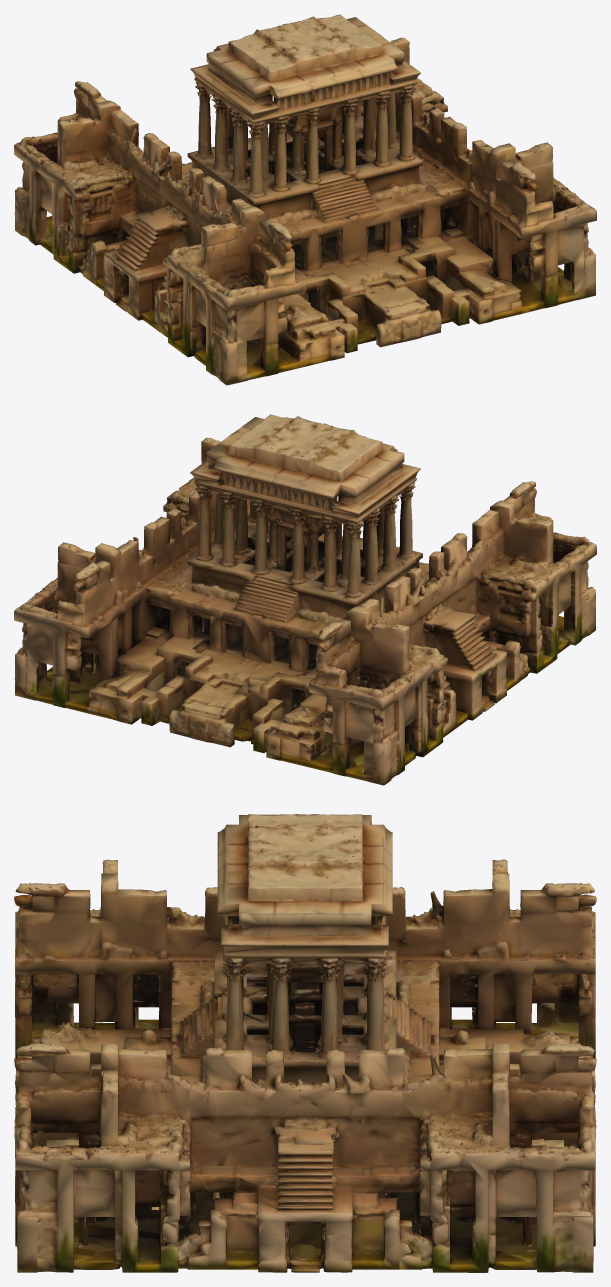
The model's file is A_very_large_ancient.glb.
The picture shows the model from 3 angles, top to bottom: view 1: azimuth 30°, elevation 25°; view 2: azimuth 150°, elevation 25°; view 3: azimuth 270°, elevation 25°; orthographic projection. The views are drawn at different scales.
Visible parts, largest first — view 1: A_very_large_ancient; view 2: A_very_large_ancient; view 3: A_very_large_ancient.
Part boxes in pixels (bbox=[...]): A_very_large_ancient: bbox=[14, 14, 596, 385]; A_very_large_ancient: bbox=[14, 414, 596, 785]; A_very_large_ancient: bbox=[14, 814, 596, 1272].
Bounding box in the file's own units: 1.9 × 1.11 × 1.91.
Materials: 1 (1 with a texture image).
